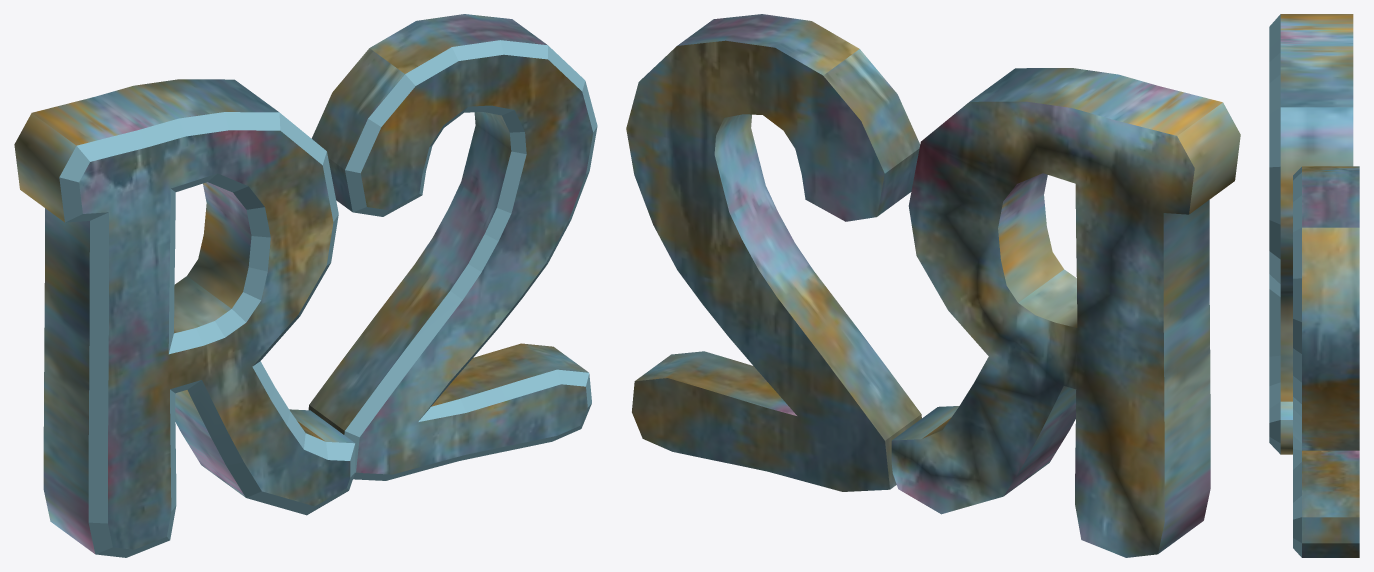
File: pm-button-r-02.glb
3 views of the same model, side by side, from view 1: azimuth 30°, elevation 25°; view 2: azimuth 150°, elevation 25°; view 3: azimuth 270°, elevation 25° (orthographic). The views are drawn at different scales.
Parts seen in each view (by area): view 1: ButtonR02; view 2: ButtonR02; view 3: ButtonR02.
Part boxes in pixels (x1,y1,x2,y2): ButtonR02: (14,14,597,557); ButtonR02: (626,14,1240,557); ButtonR02: (1269,14,1359,557).
Bounding box in the file's own units: 0.229 × 0.1699 × 0.0402.
1 material, 1 textured.
